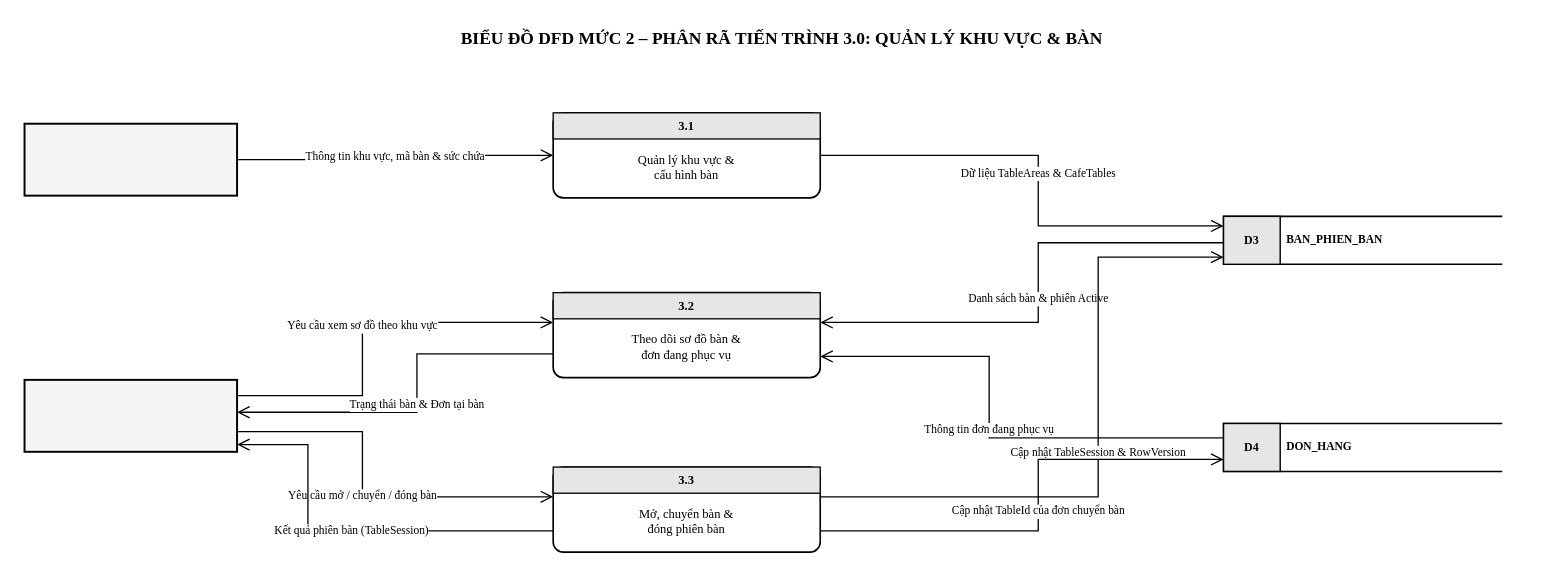
Some shapes in this 1563 by 571 pixel diagram are drawn without their labels. The box of each missing label's shape, as (x1, y1, x2, y2) in pixels:
Chủ quán (ADMIN) / Quản lý (MANAGER): (23, 122, 238, 196)
Thu ngân (CASHIER): (23, 378, 238, 452)
